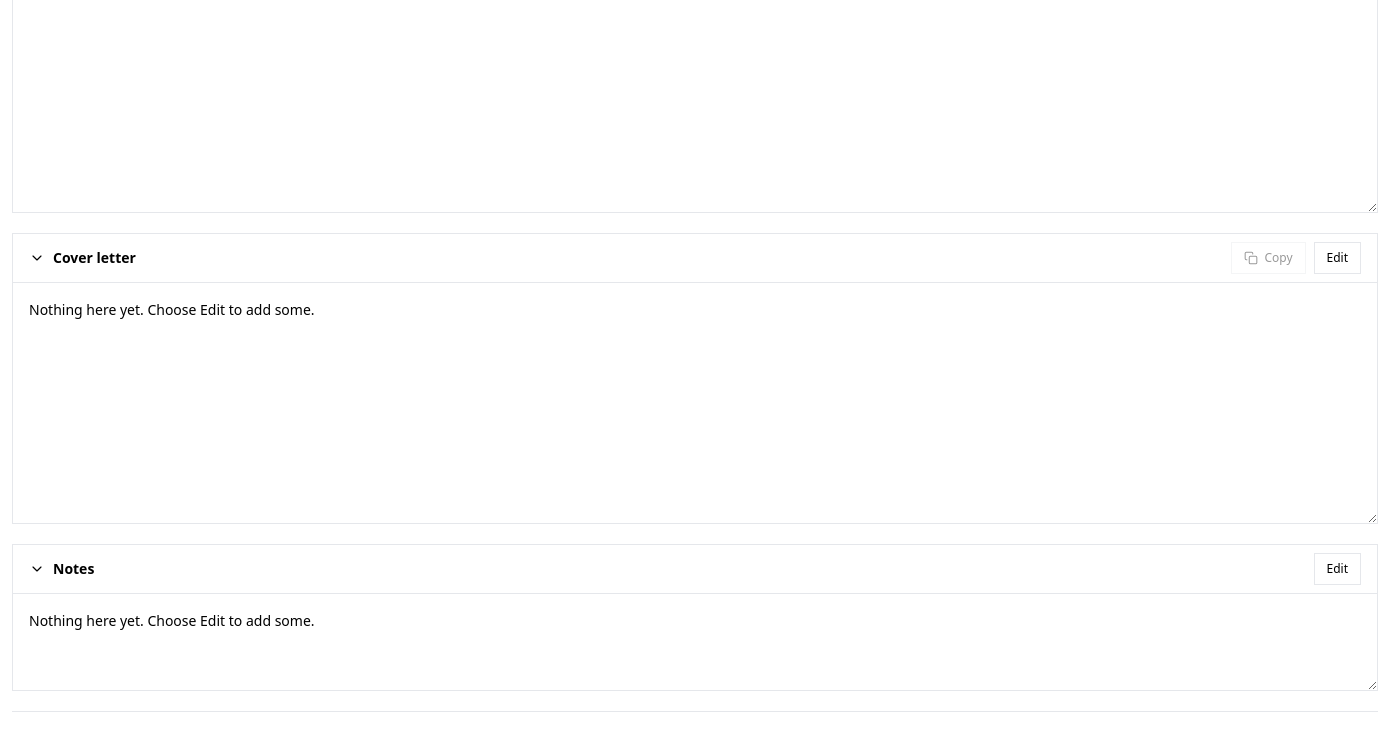
Test: ApplicationDetail › edits and collapses a document section
(page scrolled)
Click the 2nd button "Edit" at (1337, 569), box [1314,553,1361,585]
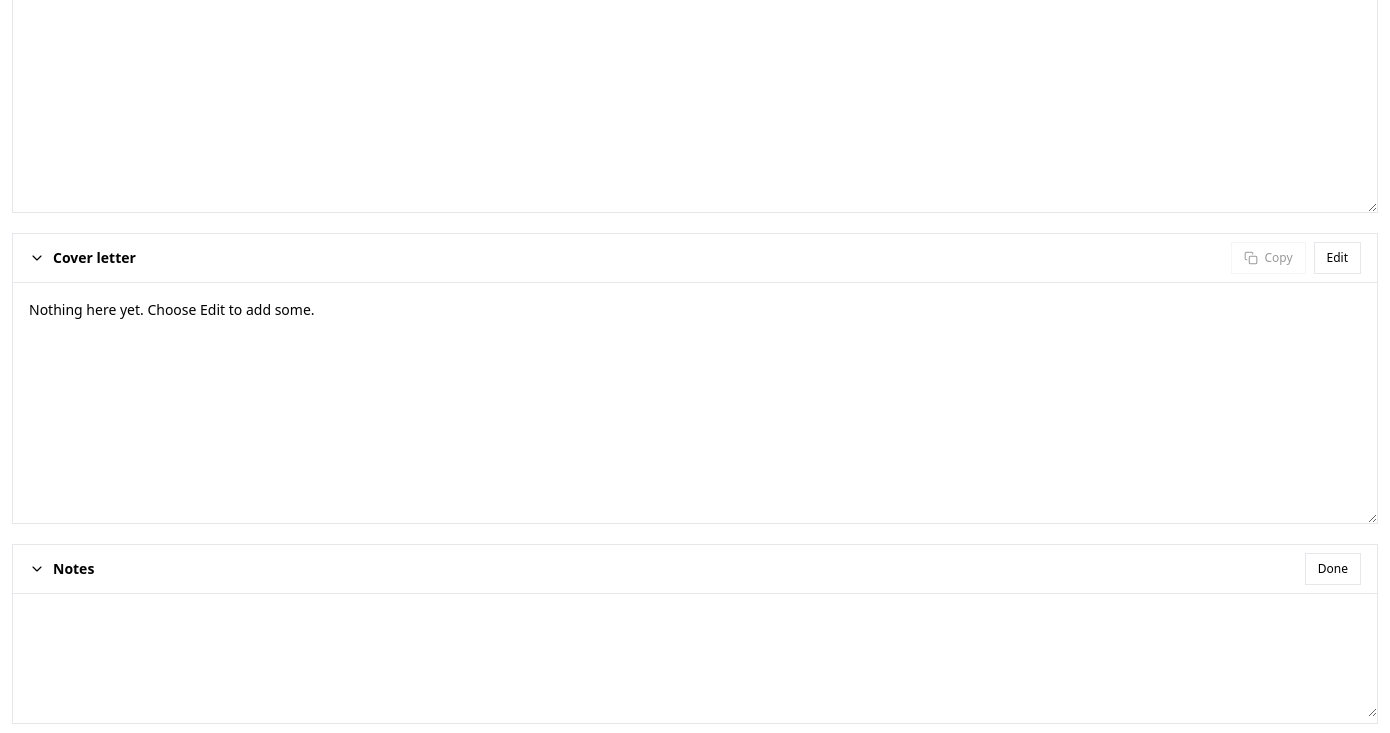
Type "call Fri" into the text box named "Notes" at (695, 656), box [13,594,1377,717]
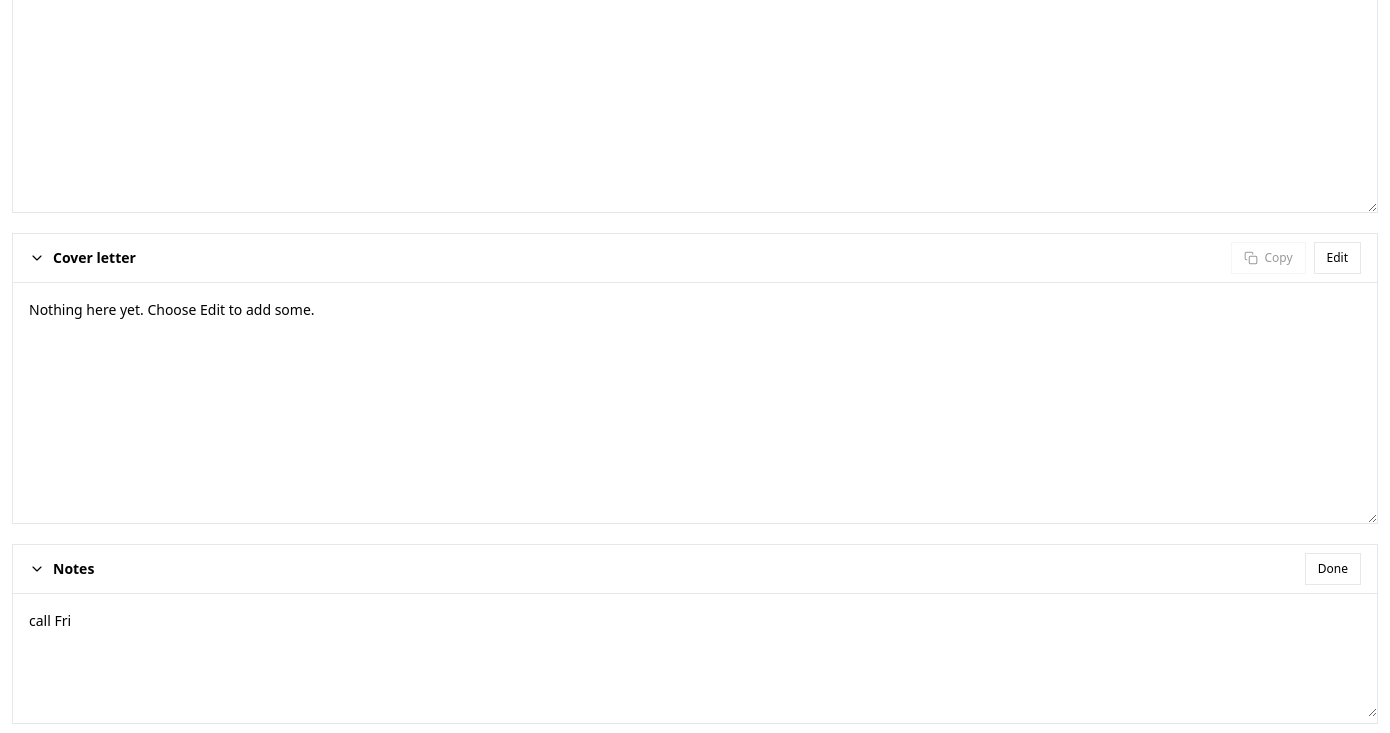
Click the button "Done" at (1333, 569), box [1305,553,1361,585]
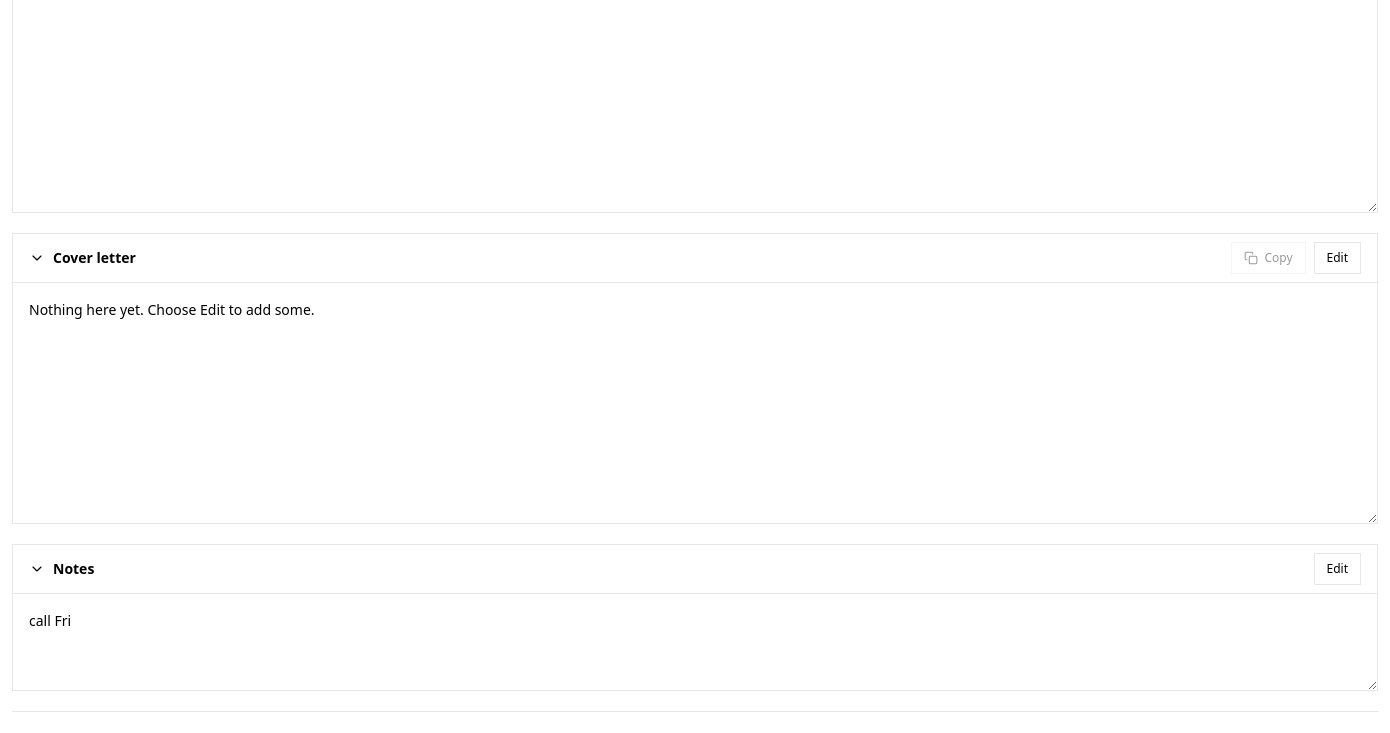
Check: the text "call Fri" is shown, box [29,611,71,630]
Click the button "Notes" at (62, 569), box [29,551,94,587]
(page scrolled)
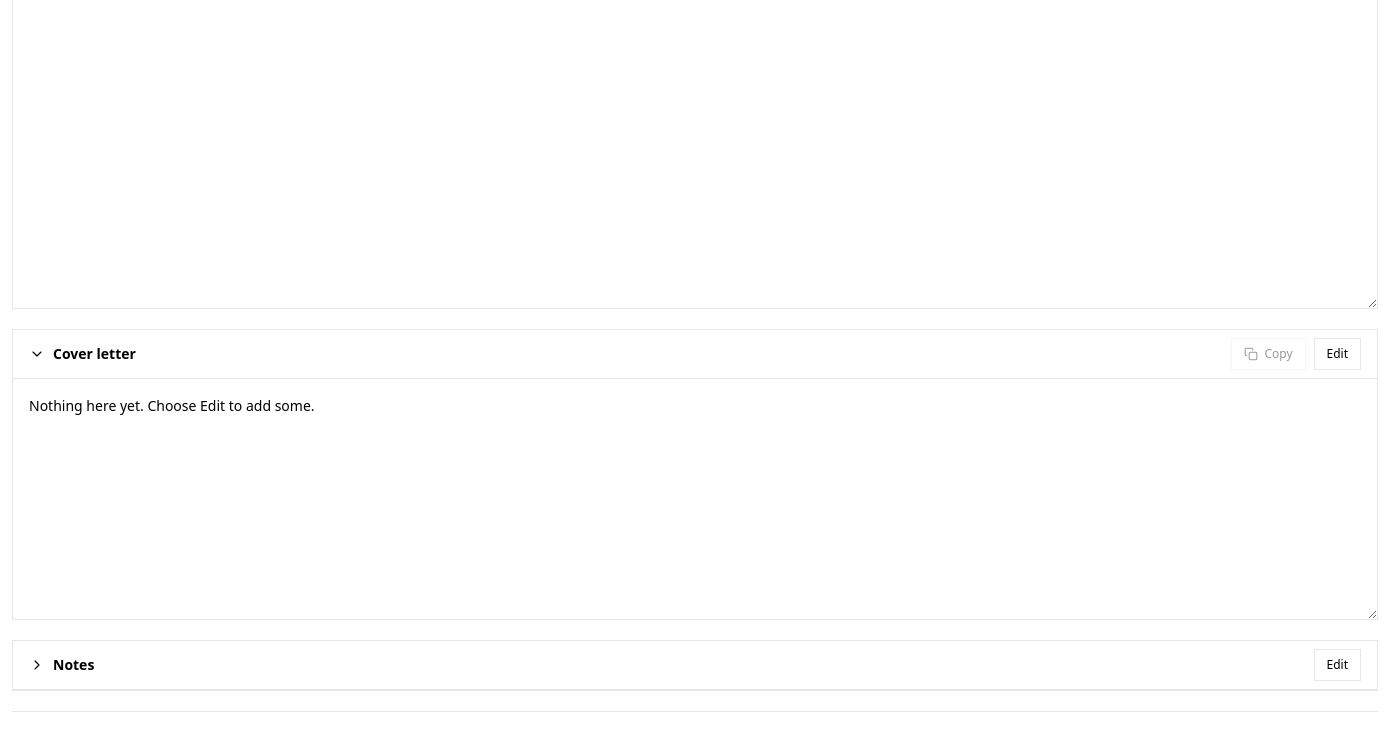
Check: the text "call Fri" is gone
